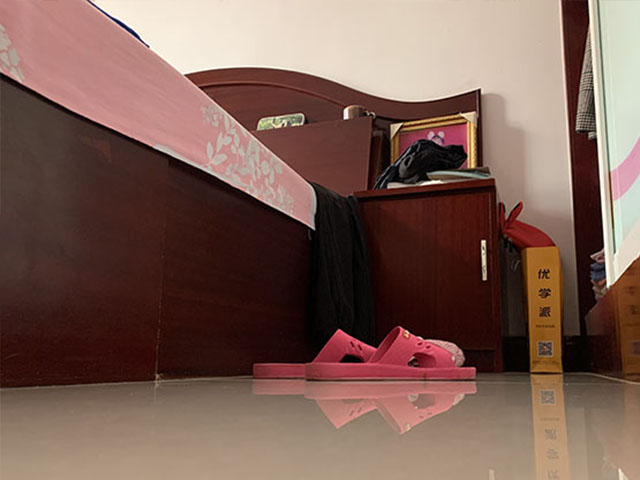bed: (1, 1, 373, 390)
cabinet: (354, 174, 506, 375)
slippers: (309, 324, 478, 383), (251, 327, 374, 383)
